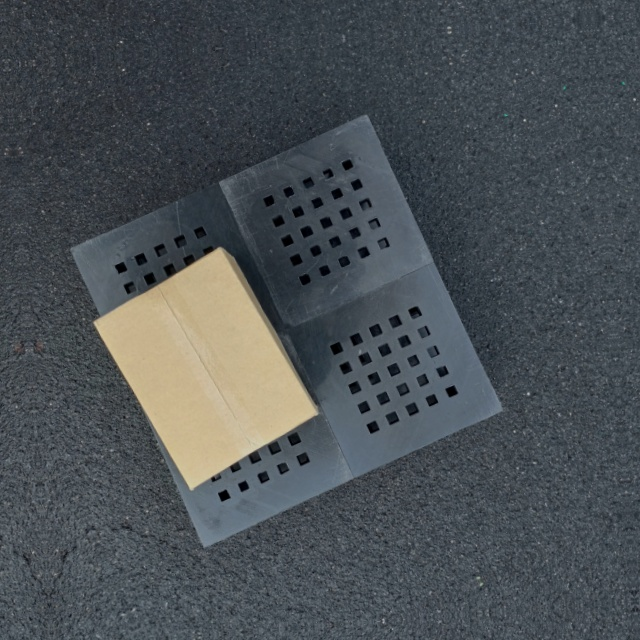box: (87, 240, 324, 496)
pallet: (60, 105, 515, 561)
